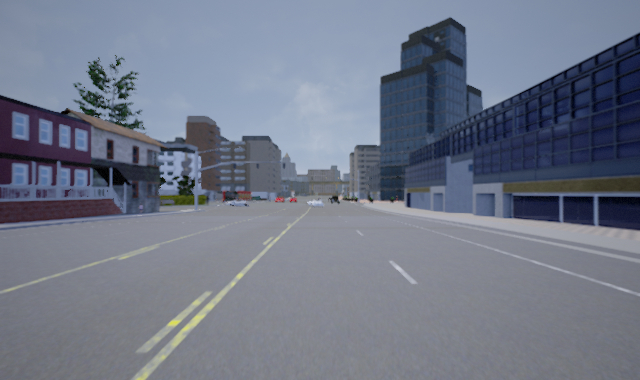vehicle: (227, 198, 250, 208), (273, 196, 284, 202), (288, 196, 297, 203)
